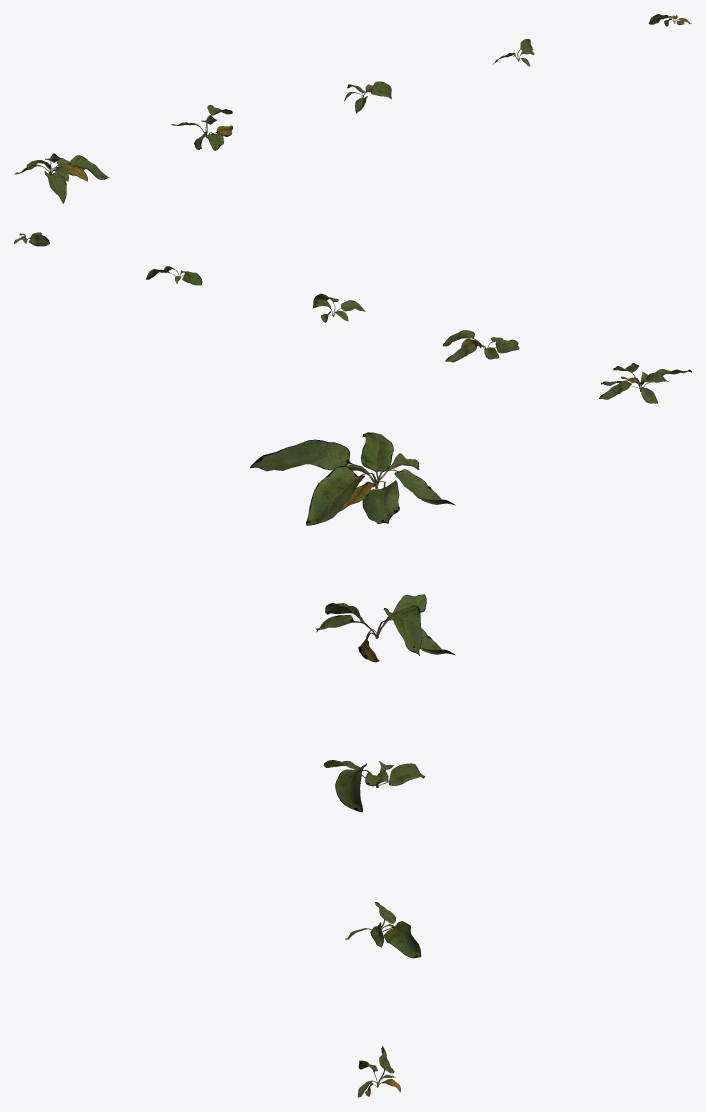
Rendered from weed_plant_02.glb.
3 renders of one model, top to bottom at view 1: azimuth 30°, elevation 25°; view 2: azimuth 150°, elevation 25°; view 3: azimuth 270°, elevation 25°, orthographic. The views are drawn at different scales.
Visible parts, largest first — view 1: weed_plant_02_a_LOD0, weed_plant_02_b_LOD0, weed_plant_02_c_LOD0, weed_plant_02_d_LOD0; view 2: weed_plant_02_a_LOD0, weed_plant_02_b_LOD0, weed_plant_02_c_LOD0, weed_plant_02_d_LOD0, weed_plant_02_e_LOD0; view 3: weed_plant_02_a_LOD0, weed_plant_02_b_LOD0, weed_plant_02_c_LOD0, weed_plant_02_d_LOD0.
Boxes of the visible parts, x1,y1,x2,y2 form: weed_plant_02_a_LOD0: [14, 153, 109, 203]; weed_plant_02_b_LOD0: [171, 105, 232, 150]; weed_plant_02_c_LOD0: [344, 81, 391, 113]; weed_plant_02_d_LOD0: [493, 39, 534, 66]; weed_plant_02_a_LOD0: [599, 363, 691, 403]; weed_plant_02_b_LOD0: [442, 330, 519, 362]; weed_plant_02_c_LOD0: [312, 293, 365, 322]; weed_plant_02_d_LOD0: [146, 266, 202, 285]; weed_plant_02_e_LOD0: [14, 232, 49, 246]; weed_plant_02_a_LOD0: [250, 432, 455, 525]; weed_plant_02_b_LOD0: [315, 594, 455, 662]; weed_plant_02_c_LOD0: [323, 760, 425, 812]; weed_plant_02_d_LOD0: [345, 902, 421, 958].
Size of the model in its own units: 2.13 by 0.0751 by 0.2909.
Materials: 1 (1 with a texture image).
